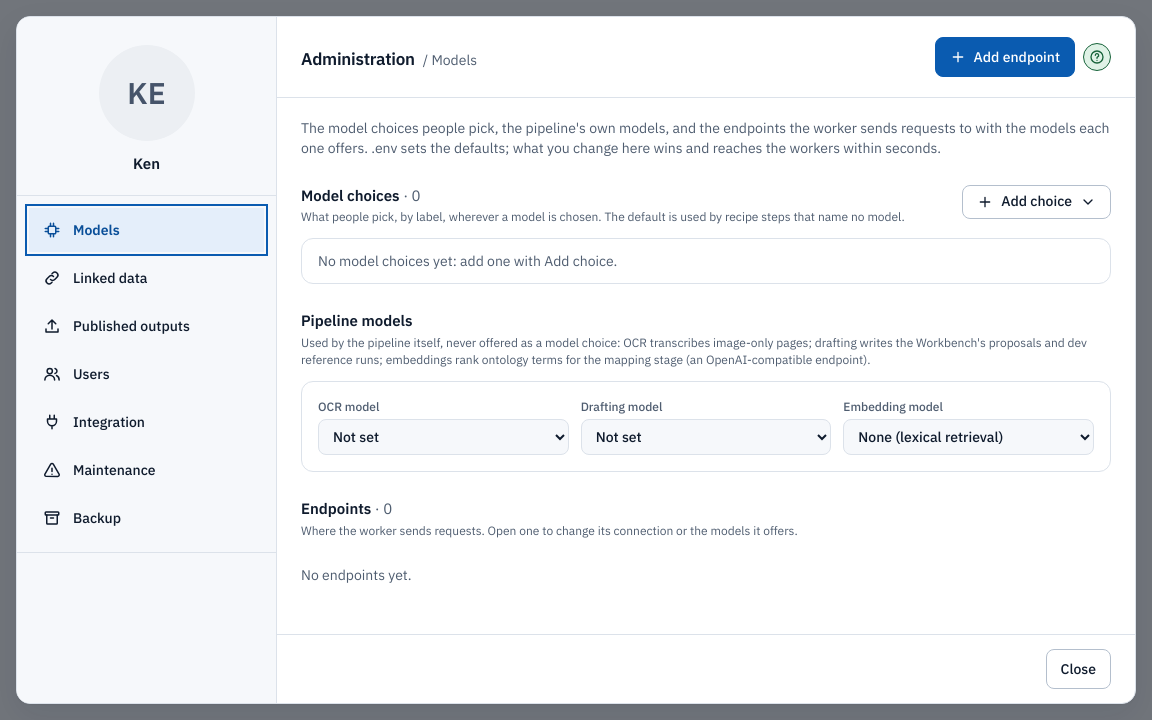
it: AdminDialog Backup tab › is the last tab, with Create backup in the header
Click the tab "Backup". click: coordinates (146, 518)
box: [29,496,264,540]
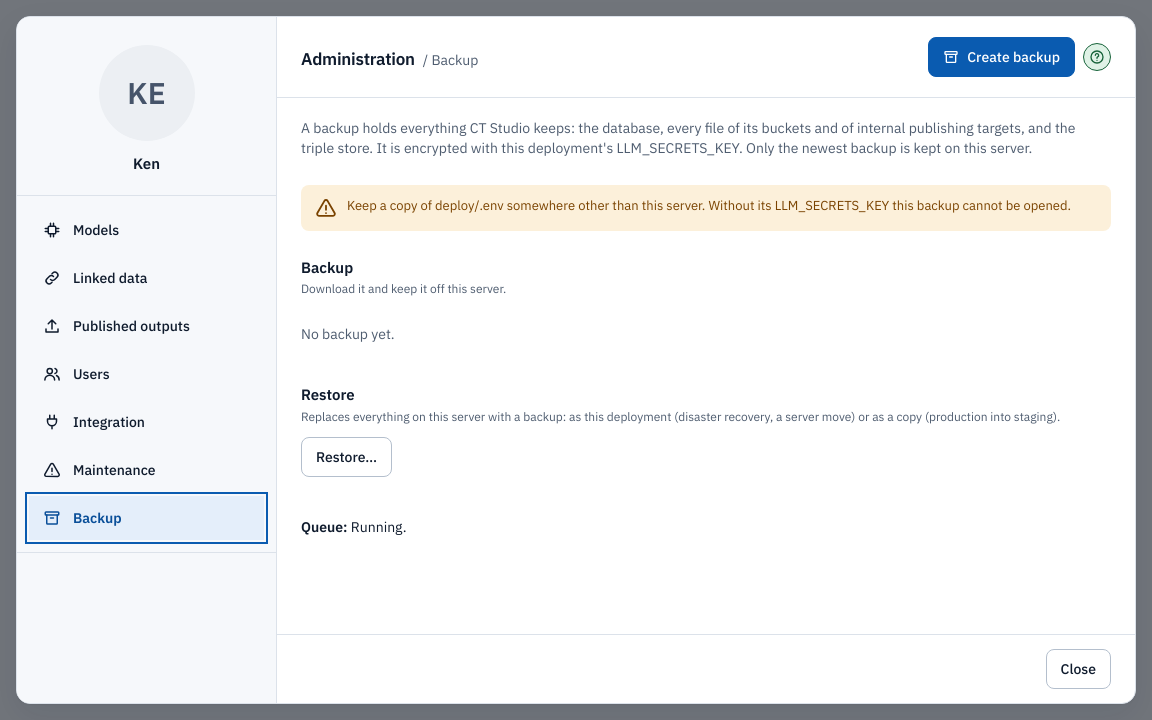
Check: the button "Create backup" is shown, box [928,37,1075,77]
